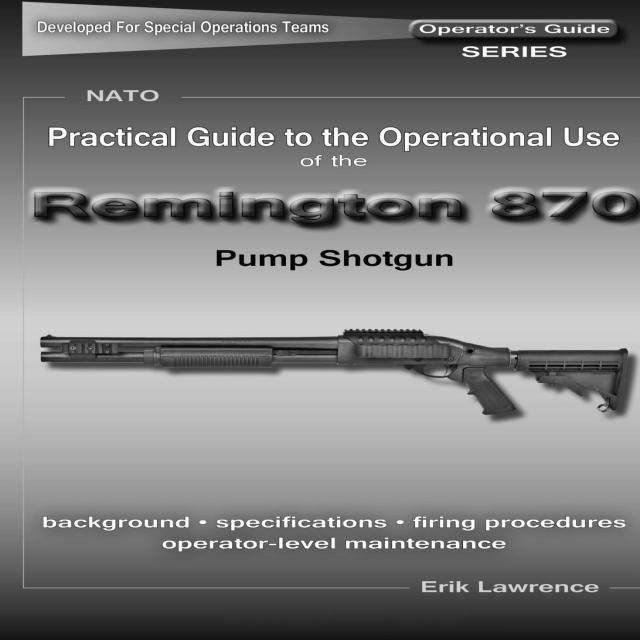Weapon: (40, 329, 628, 415)
